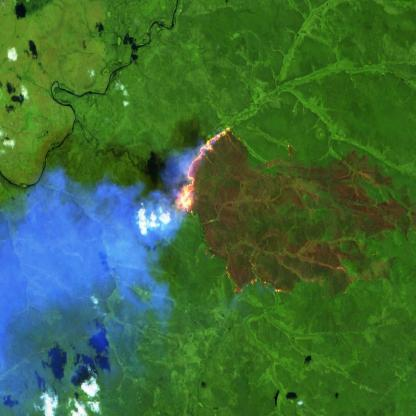fire: (166, 118, 235, 230)
